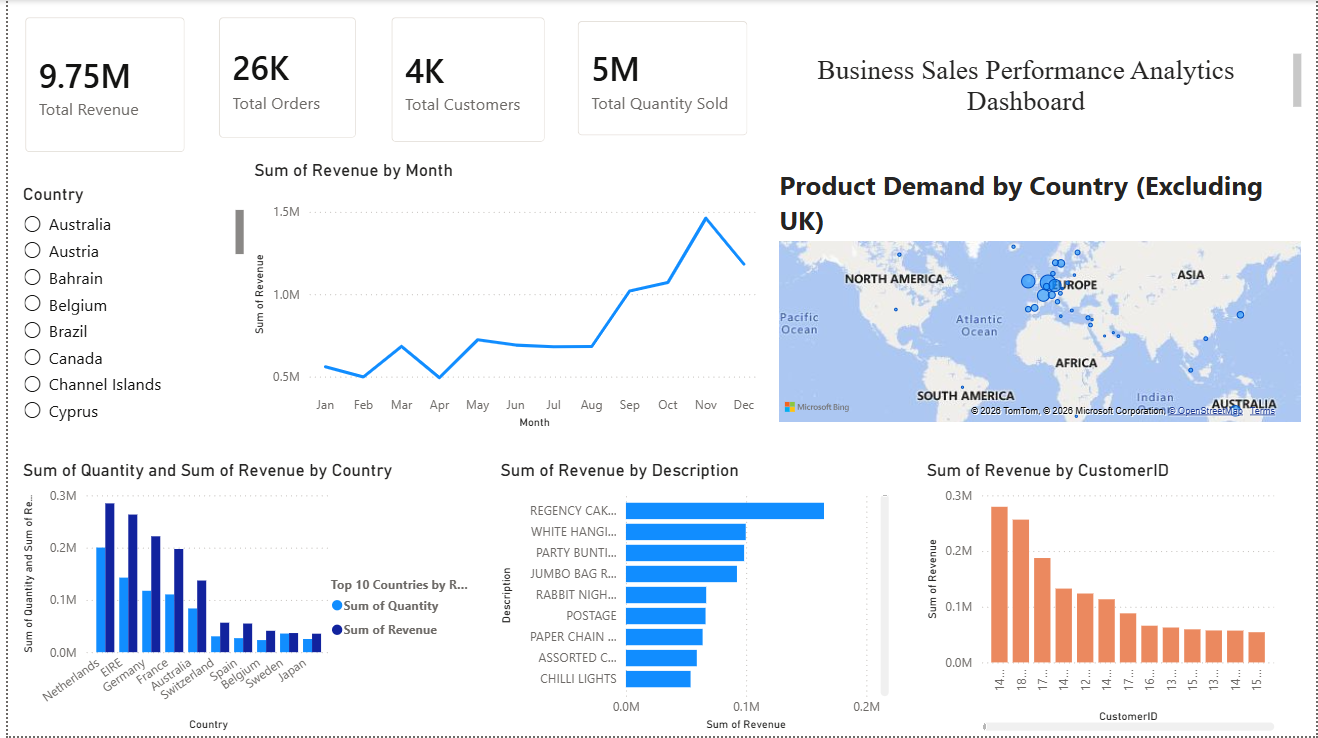

Layout of this report page (visuals, bound fields, positions):
{"tool":"powerbi","page":{"name":"Dashboard","canvas":[1280,720],"ordinal":5},"visuals":[{"type":"cardVisual","fields":{"Data":["Online Retail.Total Revenue"]},"box":[0,0,190,166],"z":0},{"type":"cardVisual","fields":{"Data":["Online Retail.Total Orders"]},"box":[190,0,168,152],"z":1000},{"type":"cardVisual","fields":{"Data":["Online Retail.Total Customers"]},"box":[358,0,184,156],"z":2000},{"type":"cardVisual","fields":{"Data":["Online Retail.Total Quantity Sold"]},"box":[540,4,200,146],"z":3000},{"type":"lineChart","fields":{"Category":["Online Retail.Month"],"Y":["Sum(Online Retail.Revenue)"]},"box":[236,156,504,268],"z":4000},{"type":"clusteredColumnChart","fields":{"Category":["Online Retail.Country"],"Y":["Sum(Online Retail.Quantity)","Sum(Online Retail.Revenue)"]},"box":[10,450,456,270],"z":5000},{"type":"clusteredBarChart","fields":{"Category":["Online Retail.Description"],"Y":["Sum(Online Retail.Revenue)"]},"box":[476.7,450,390,270],"z":6000},{"type":"clusteredColumnChart","fields":{"Category":["Online Retail.CustomerID"],"Y":["Sum(Online Retail.Revenue)"]},"box":[893.3,450,350,270],"z":7000},{"type":"map","title":"Product Demand by Country (Excluding UK)","fields":{"Category":["Online Retail.Country"],"Size":["Sum(Online Retail.Quantity)"]},"box":[750,164,520,254],"z":8000},{"type":"textbox","box":[730,48,540,74],"z":9000},{"type":"listSlicer","fields":{"Values":["Online Retail.Country"]},"box":[10,180,226.7,243.3],"z":10000}]}

Visuals, with their boxes in screenshot pixels (x1, y1, x2, y2), scaled from the page's 1280x720 canvas onto the 1318x738 screenshot:
cardVisual - Online Retail.Total Revenue: {"x1": 0, "y1": 0, "x2": 196, "y2": 170}
cardVisual - Online Retail.Total Orders: {"x1": 196, "y1": 0, "x2": 369, "y2": 156}
cardVisual - Online Retail.Total Customers: {"x1": 369, "y1": 0, "x2": 558, "y2": 160}
cardVisual - Online Retail.Total Quantity Sold: {"x1": 556, "y1": 4, "x2": 762, "y2": 154}
lineChart - Online Retail.Month x Sum(Online Retail.Revenue): {"x1": 243, "y1": 160, "x2": 762, "y2": 435}
clusteredColumnChart - Online Retail.Country x Sum(Online Retail.Quantity): {"x1": 10, "y1": 461, "x2": 480, "y2": 737}
clusteredBarChart - Online Retail.Description x Sum(Online Retail.Revenue): {"x1": 491, "y1": 461, "x2": 892, "y2": 737}
clusteredColumnChart - Online Retail.CustomerID x Sum(Online Retail.Revenue): {"x1": 920, "y1": 461, "x2": 1280, "y2": 737}
"Product Demand by Country (Excluding UK)" map: {"x1": 772, "y1": 168, "x2": 1308, "y2": 428}
textbox: {"x1": 752, "y1": 49, "x2": 1308, "y2": 125}
listSlicer - Online Retail.Country: {"x1": 10, "y1": 184, "x2": 244, "y2": 434}
